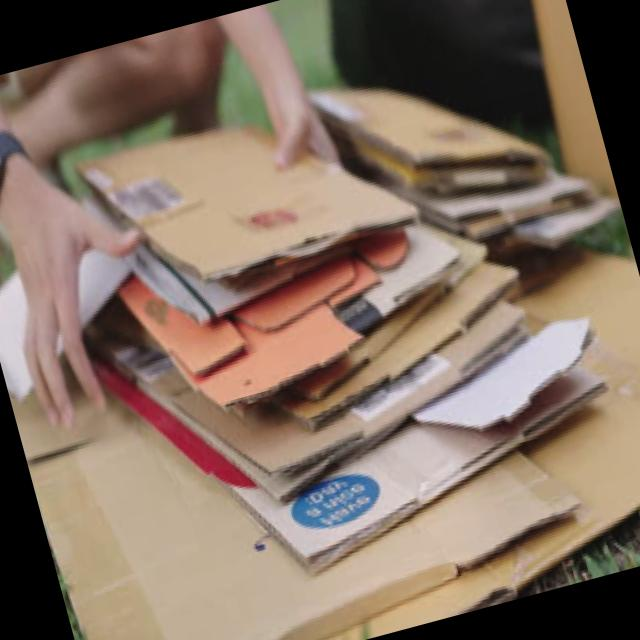Kardus: (74, 45, 636, 609), (25, 290, 640, 640)
